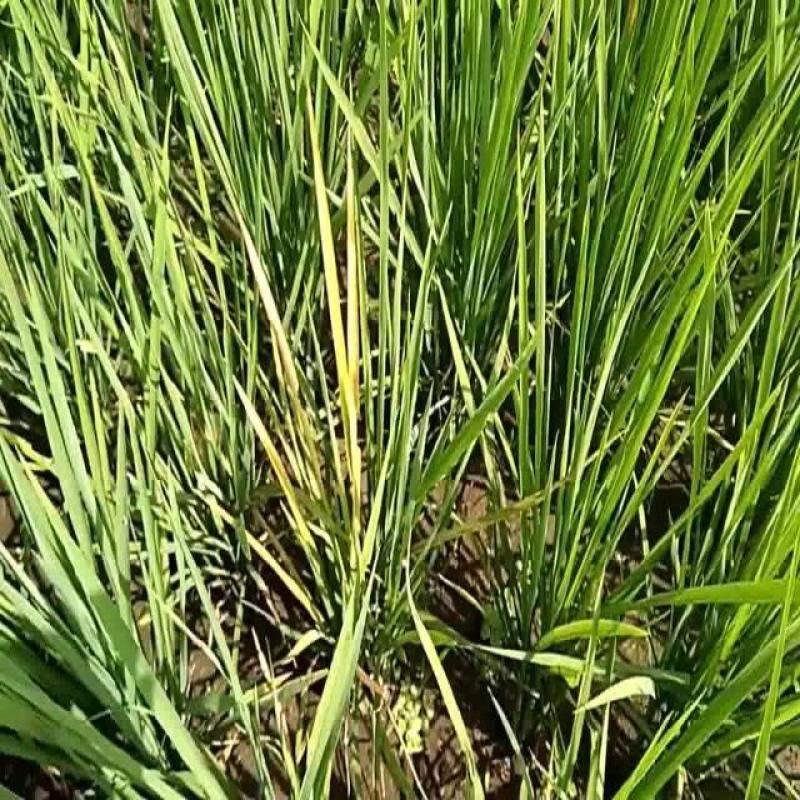Rice Tungro: (222, 178, 303, 398), (302, 70, 348, 388), (229, 366, 305, 529), (343, 67, 362, 385)
